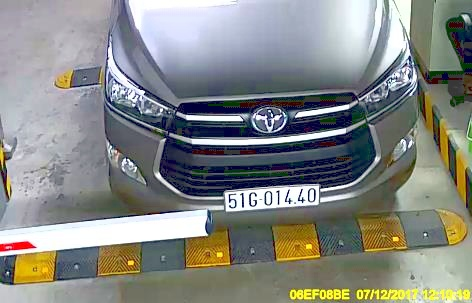plate: (221, 181, 322, 216)
